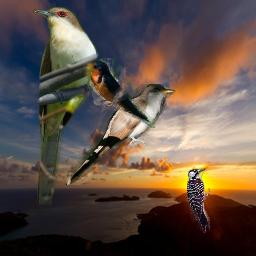Cuckoo: (32, 6, 99, 205), (66, 84, 176, 185)
Swallow: (83, 58, 155, 128)
Woodpecker: (187, 168, 210, 233)
